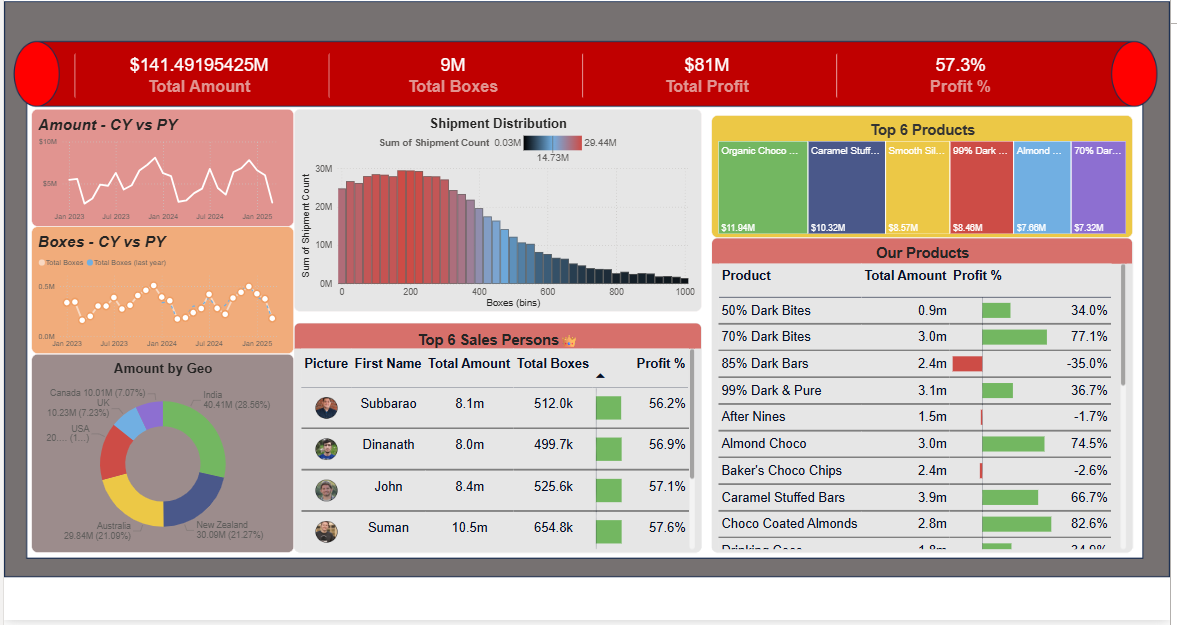

Layout of this report page (visuals, bound fields, positions):
{"tool":"powerbi","page":{"name":"Page 8","canvas":[1920,1080],"ordinal":7},"visuals":[{"type":"lineChart","title":"Amount - CY vs PY","fields":{"Y":["shipments.Total Amount"],"Category":["calendar.Start of Month"]},"box":[45.3,238.8,432.2,193.5],"z":0},{"type":"lineChart","title":"Boxes - CY vs PY","fields":{"Category":["calendar.Start of Month"],"Y":["shipments.Total Boxes","shipments.Total Boxes (last year)"]},"box":[45.3,432.2,432.2,209.9],"z":1000},{"type":"donutChart","title":"Amount by Geo","fields":{"Category":["locations.Geo"],"Y":["Sum(shipments.Amount)"]},"box":[45.3,642.2,432.2,327.3],"z":2000},{"type":"clusteredColumnChart","title":"Shipment Distribution","fields":{"Y":["Sum(shipments.Shipment Count)"],"Category":["shipments.Boxes (bins)"]},"box":[477.5,238.8,671,333.4],"z":3000},{"type":"tableEx","title":"Top 6 Sales Persons👑","fields":{"Values":["people.Picture","people.First Name","shipments.Total Amount","shipments.Total Boxes","shipments.Profit %"]},"box":[477.5,590.7,671,378.7],"z":4000},{"type":"treemap","title":"Top 6 Products","fields":{"Values":["shipments.Total Amount"],"Group":["products.Product"]},"box":[1165,249.1,693.7,201.7],"z":5000},{"type":"tableEx","title":"Our Products","fields":{"Values":["products.Product","shipments.Total Amount","shipments.Profit %"]},"box":[1165,450.8,693.7,518.7],"z":6000},{"type":"cardVisual","fields":{"Data":["shipments.Total Amount","shipments.Total Boxes","shipments.Total Profit","shipments.Profit %"]},"box":[98.8,129.7,1702.2,109.1],"z":7000}]}

Visuals, with their boxes on the page's 1920x1080 design canvas (x1, y1, x2, y2). These are canvas units, not pixel positions in the 1177x625 screenshot, which may show the page scaled, cropped or inside an application window:
"Amount - CY vs PY" lineChart: bbox(45, 239, 478, 432)
"Boxes - CY vs PY" lineChart: bbox(45, 432, 478, 642)
"Amount by Geo" donutChart: bbox(45, 642, 478, 970)
"Shipment Distribution" clusteredColumnChart: bbox(478, 239, 1148, 572)
"Top 6 Sales Persons👑" tableEx: bbox(478, 591, 1148, 969)
"Top 6 Products" treemap: bbox(1165, 249, 1859, 451)
"Our Products" tableEx: bbox(1165, 451, 1859, 970)
cardVisual - shipments.Total Amount x shipments.Total Boxes: bbox(99, 130, 1801, 239)
